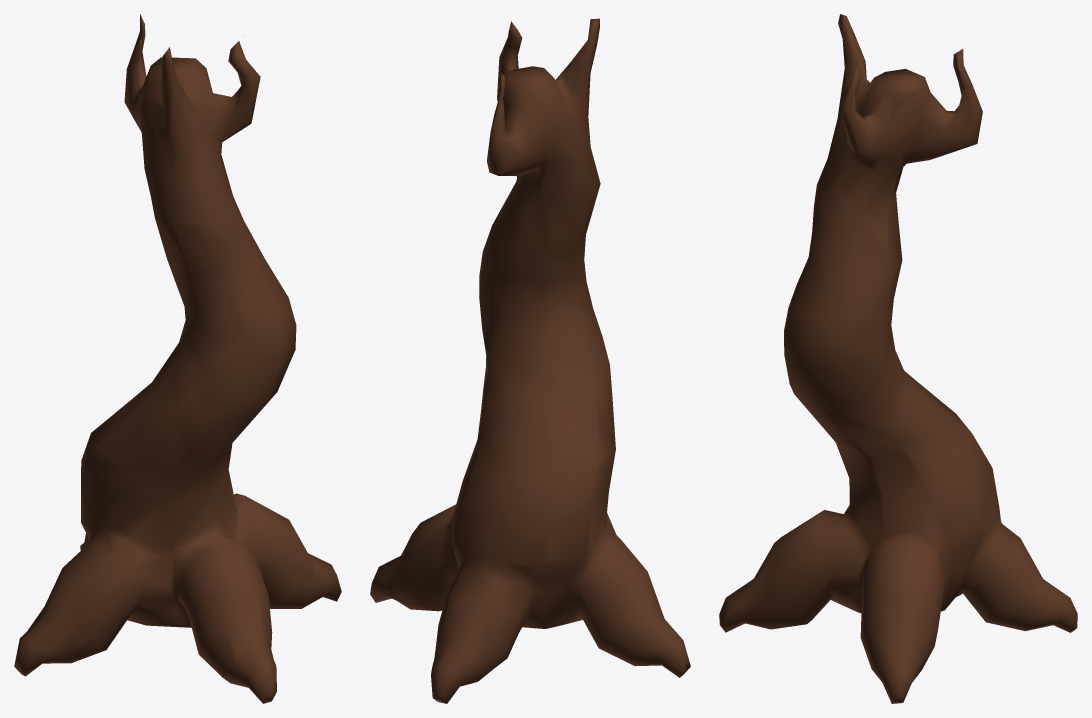
File: base balestra.fbx
The picture shows the model from 3 angles, left to right: view 1: azimuth 30°, elevation 25°; view 2: azimuth 150°, elevation 25°; view 3: azimuth 270°, elevation 25°; orthographic projection. The views are drawn at different scales.
Visible parts, largest first — view 1: Balestra Base; view 2: Balestra Base; view 3: Balestra Base.
Part boxes in pixels (box(x1,y1,x2,y2)): Balestra Base: box(14, 14, 341, 703); Balestra Base: box(370, 18, 690, 703); Balestra Base: box(719, 14, 1077, 703).
Size of the model in its own units: 2.17 by 4 by 2.17.
